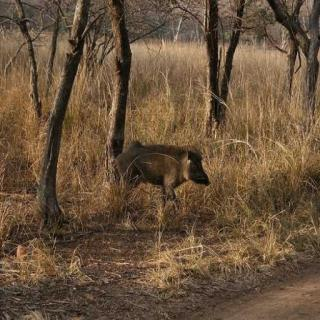Pig: (102, 123, 215, 213)
